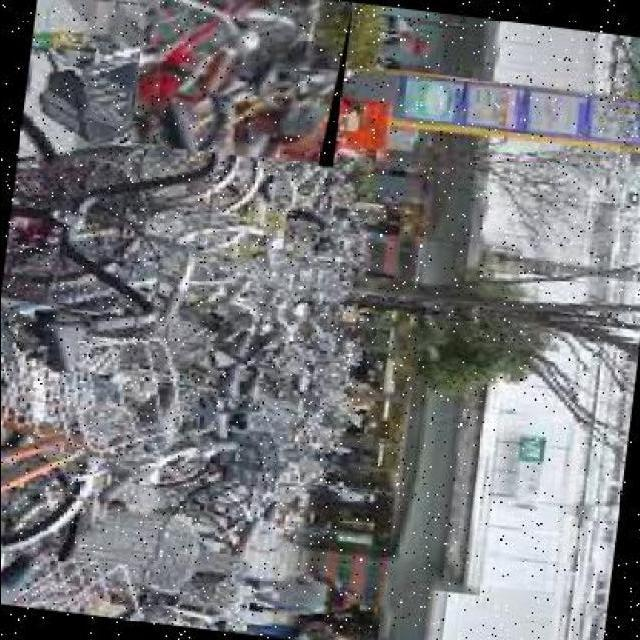bicycle: (127, 1, 353, 170)
